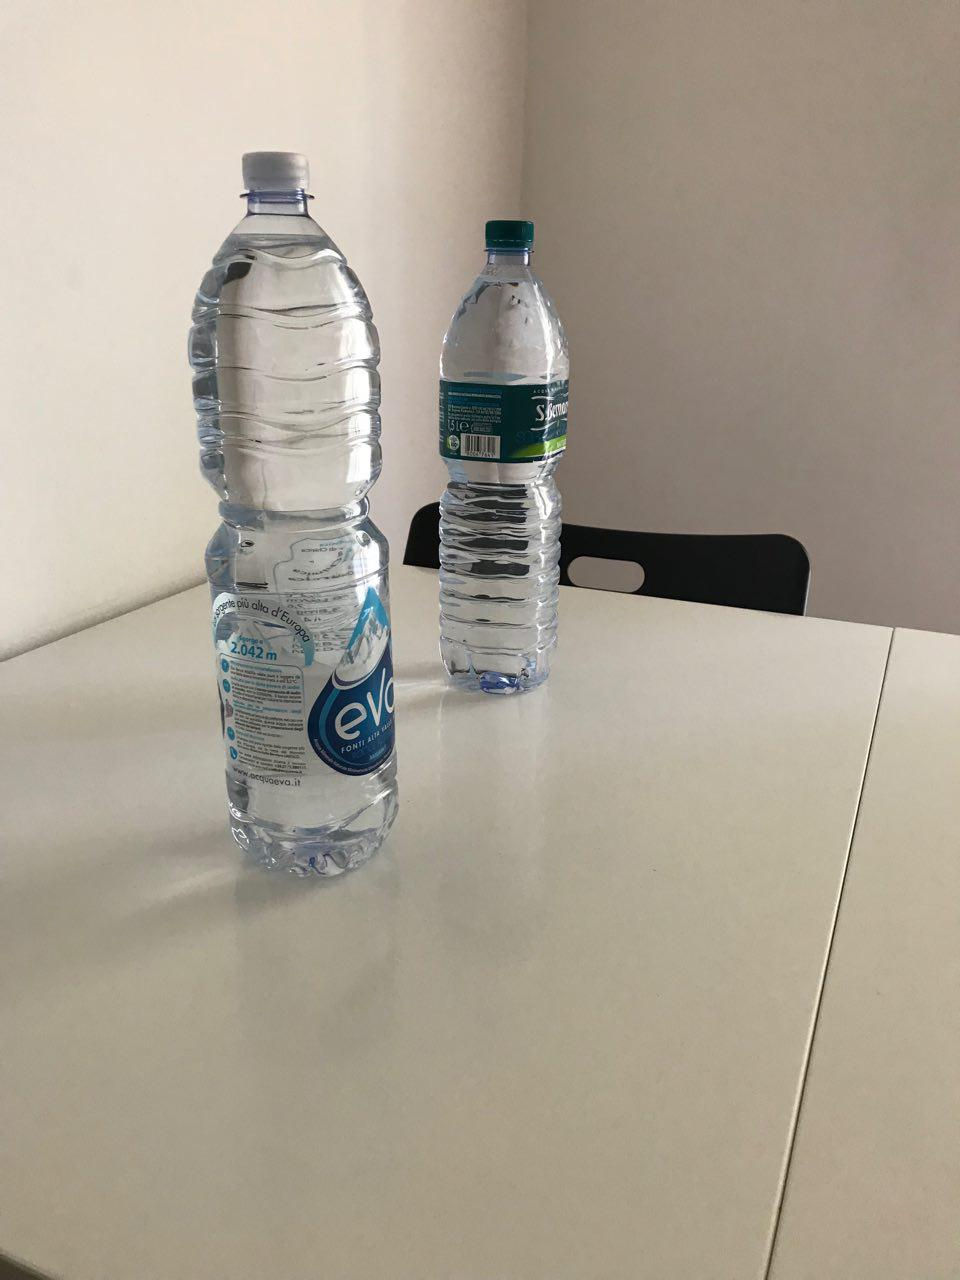san_bernardo: (437, 218, 571, 696)
